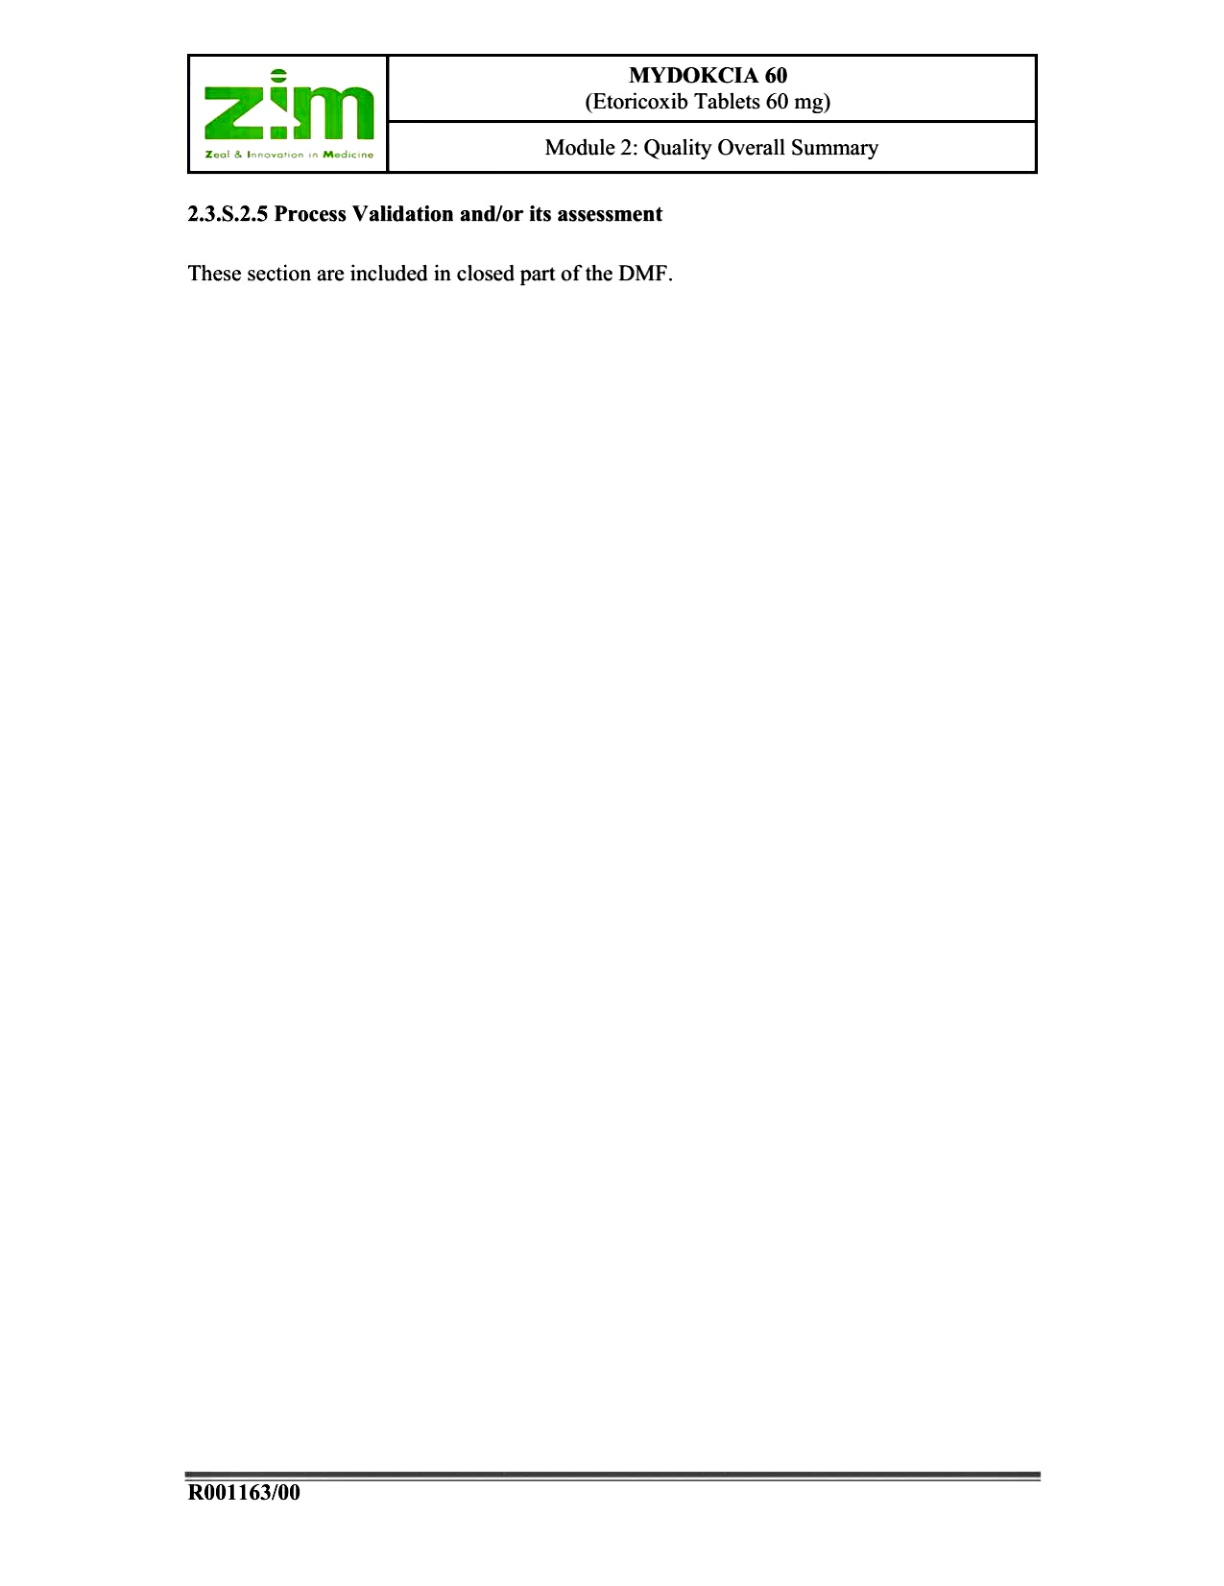merged_cells: (186, 51, 1038, 174)
